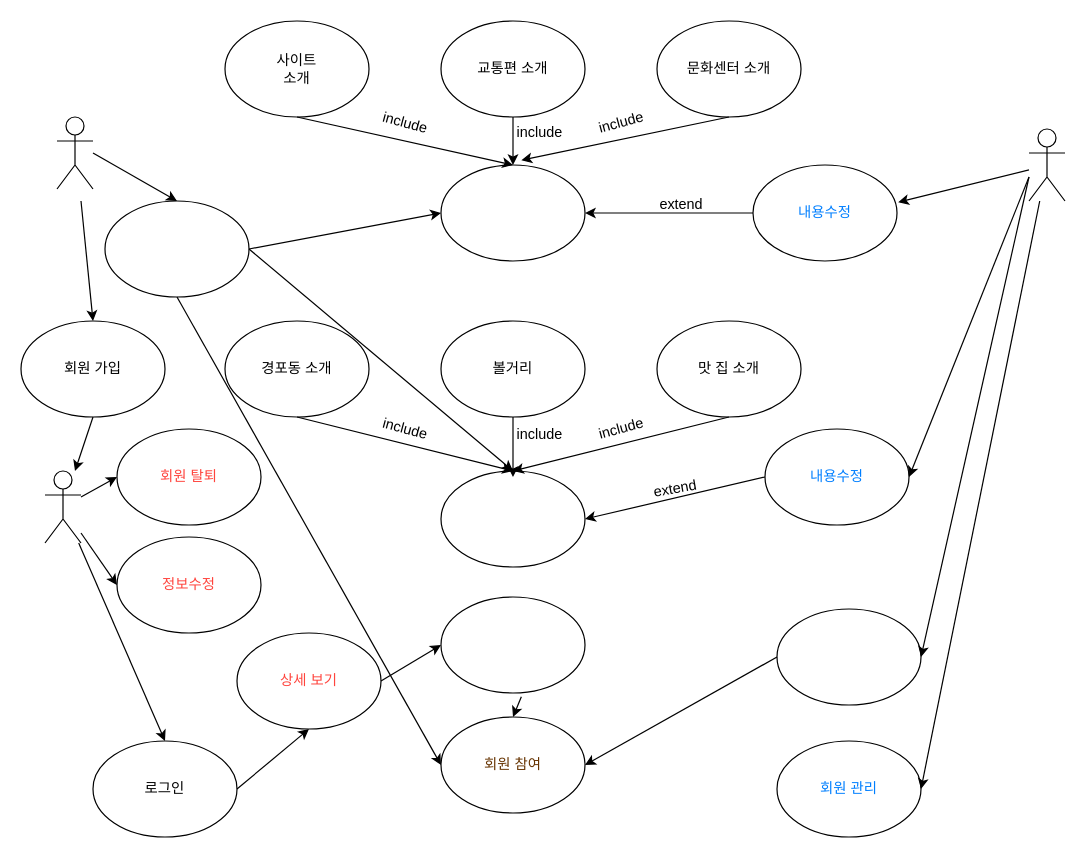
Image size: 1087x858. Some labels were removed from this diagram. The centre of each missing label's shape, as x and y in pixels:
"게시판 관리" goes at pixel 848 656.
"공지 사항" goes at pixel 512 212.
"관리자" goes at pixel 1046 164.
"목록 보기" goes at pixel 176 248.
"비회원" goes at pixel 74 152.
"자유게시판" goes at pixel 512 644.
"지역 소개" goes at pixel 512 518.
"회원" goes at pixel 62 506.
